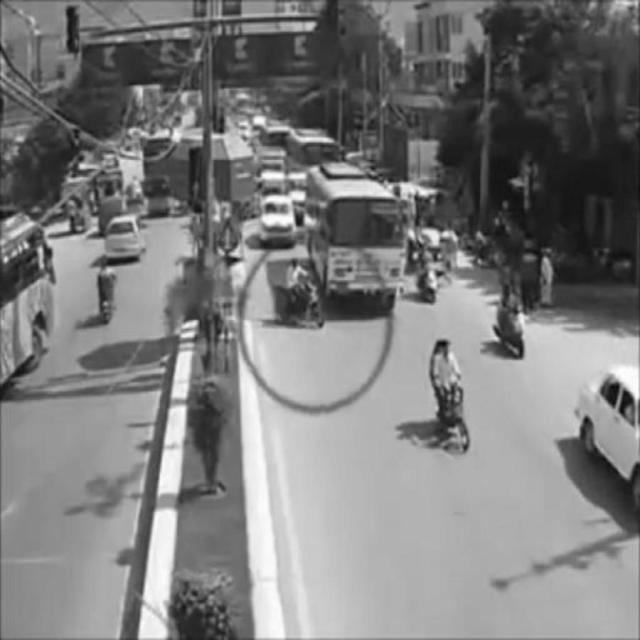vehicle: (306, 170, 399, 316), (427, 337, 474, 459), (270, 257, 326, 337), (490, 283, 527, 361), (260, 191, 298, 247), (104, 211, 144, 262), (93, 256, 119, 327)
